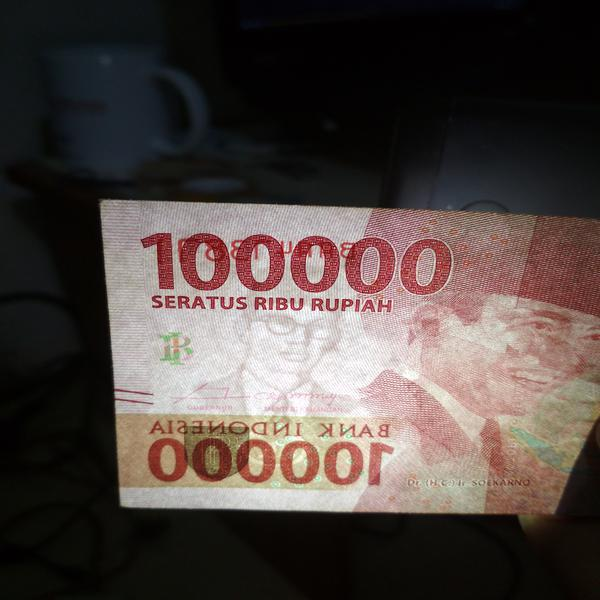uang asli: (174, 248, 393, 434)
